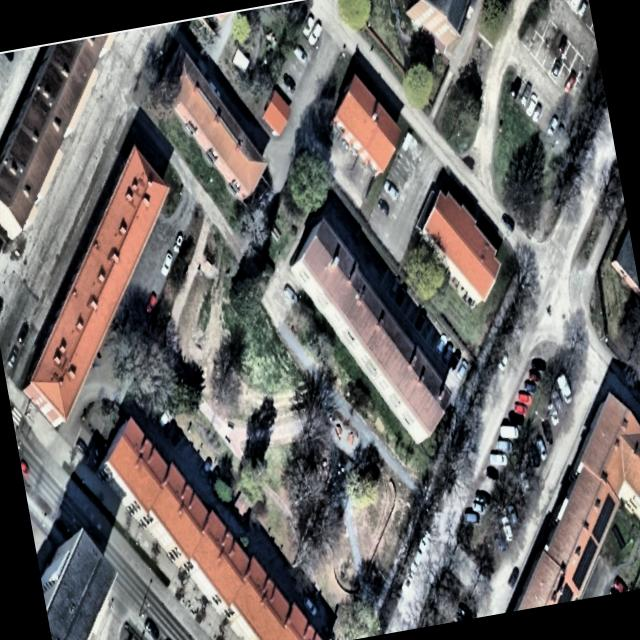roof_pv: (563, 532, 605, 590), (584, 490, 623, 545), (556, 580, 577, 603)
